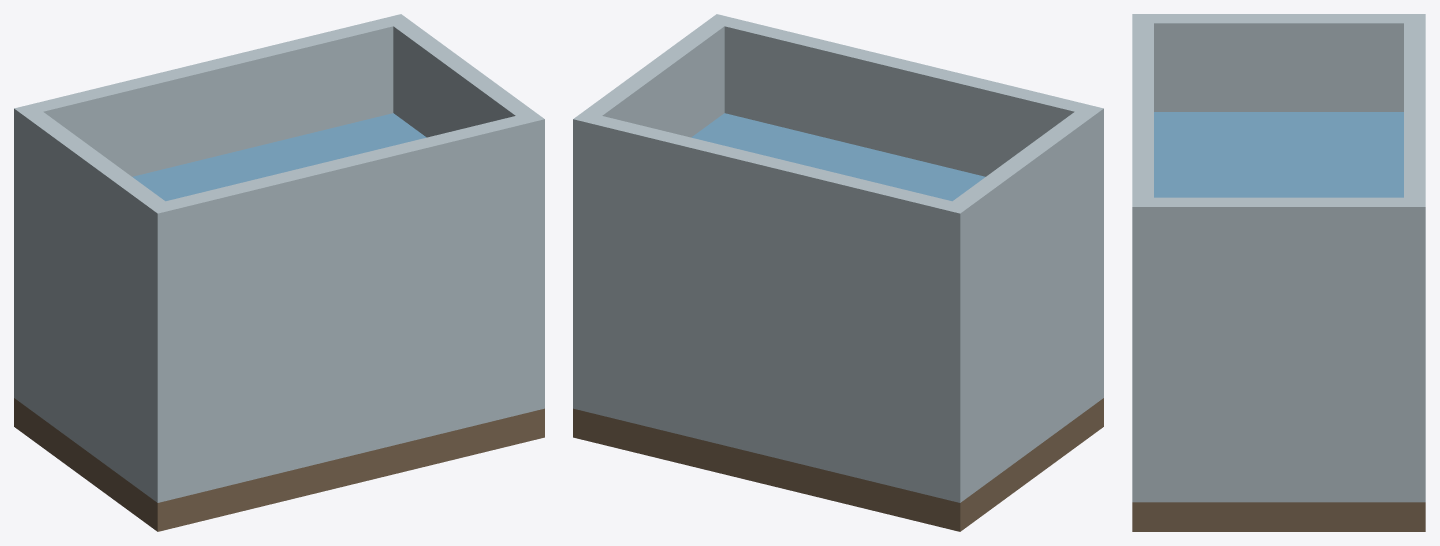
The model's file is pets_aquario.glb.
The picture shows the model from 3 angles, left to right: view 1: azimuth 30°, elevation 25°; view 2: azimuth 150°, elevation 25°; view 3: azimuth 270°, elevation 25°; orthographic projection. The views are drawn at different scales.
Visible parts, largest first — view 1: PETS_AQUARIO_v01; view 2: PETS_AQUARIO_v01; view 3: PETS_AQUARIO_v01.
Boxes of the visible parts, x1,y1,x2,y2 form: PETS_AQUARIO_v01: [14, 14, 544, 531]; PETS_AQUARIO_v01: [573, 14, 1103, 531]; PETS_AQUARIO_v01: [1132, 14, 1425, 531].
Bounding box in the file's own units: 0.42 × 0.33 × 0.27.
